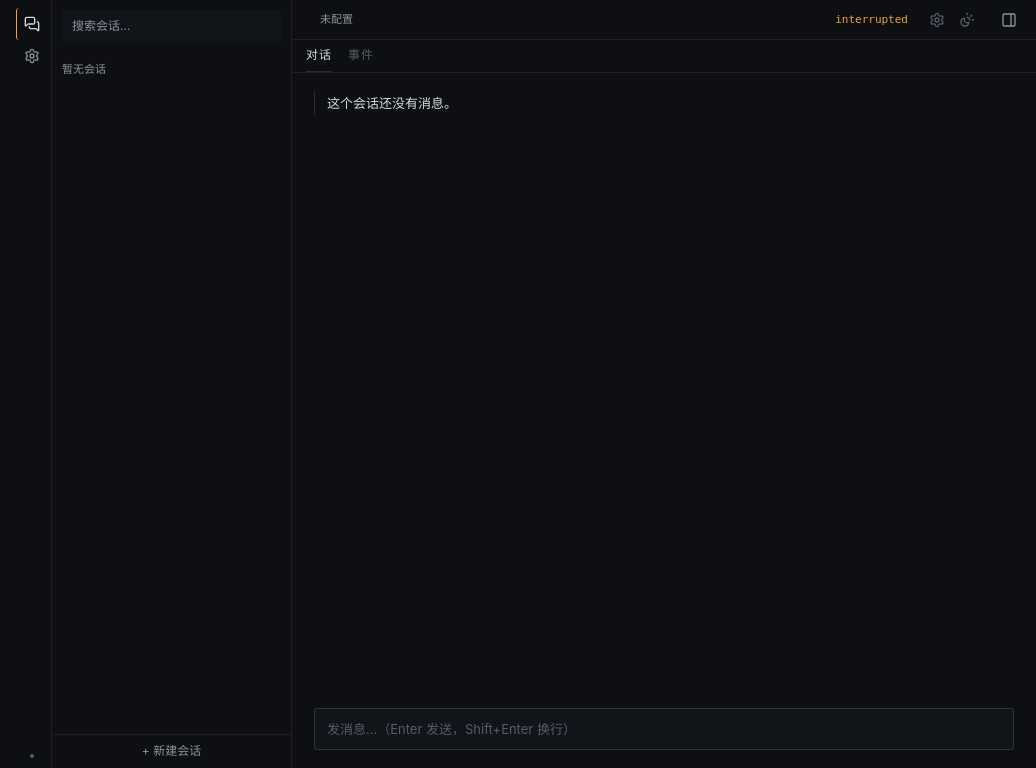
Scenario: AppFrame draft sessions › keeps the first-send session visible and selected while the catalog omits it
Click the button "+ 新建会话" at (172, 751), box 52,734 -> 291,767
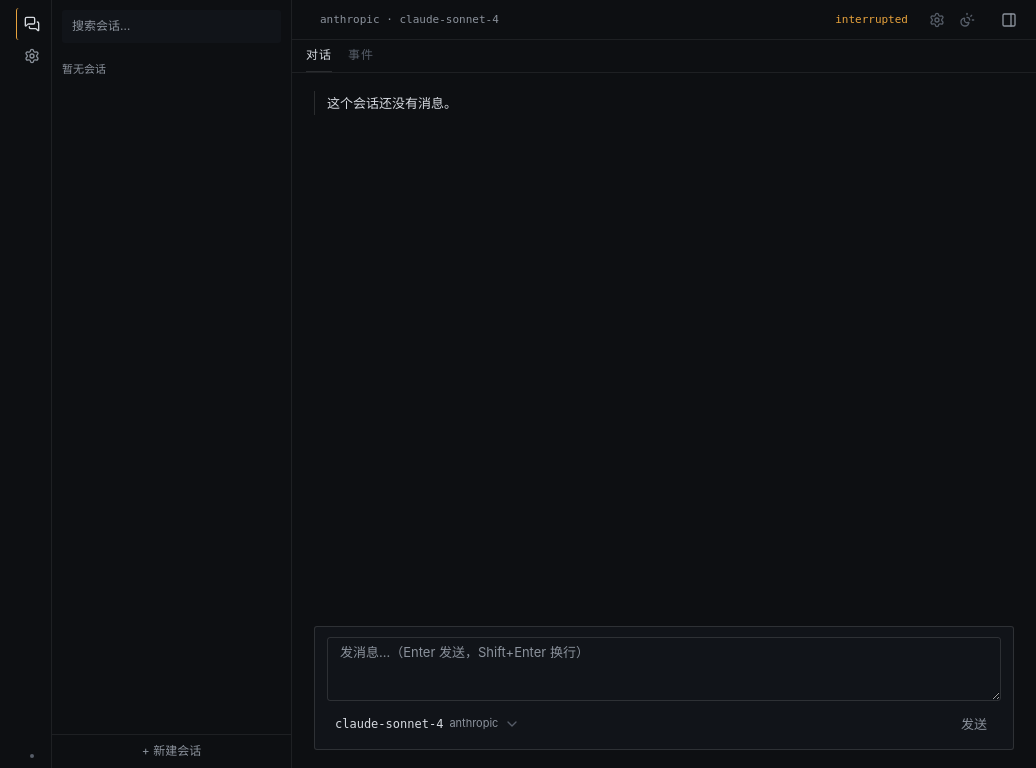
Type "Refactor the shell" into the text box named "消息输入" at (664, 669), box 327,637 -> 1001,701
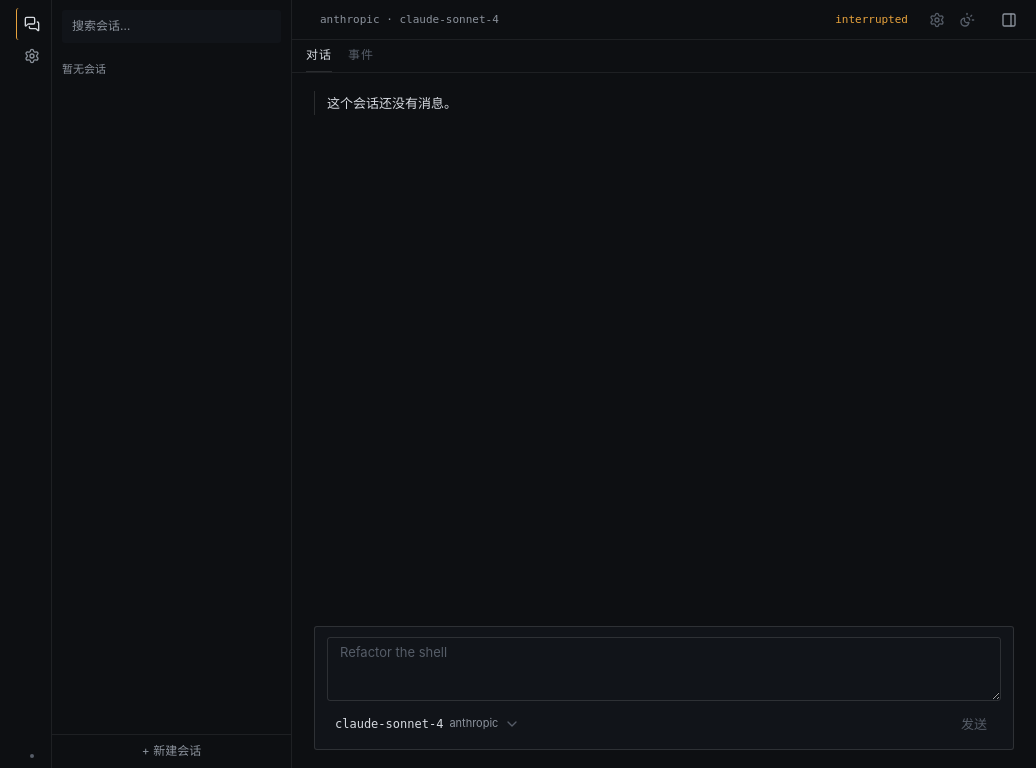
Click the button "发送" at (974, 724), box 947,709 -> 1001,739
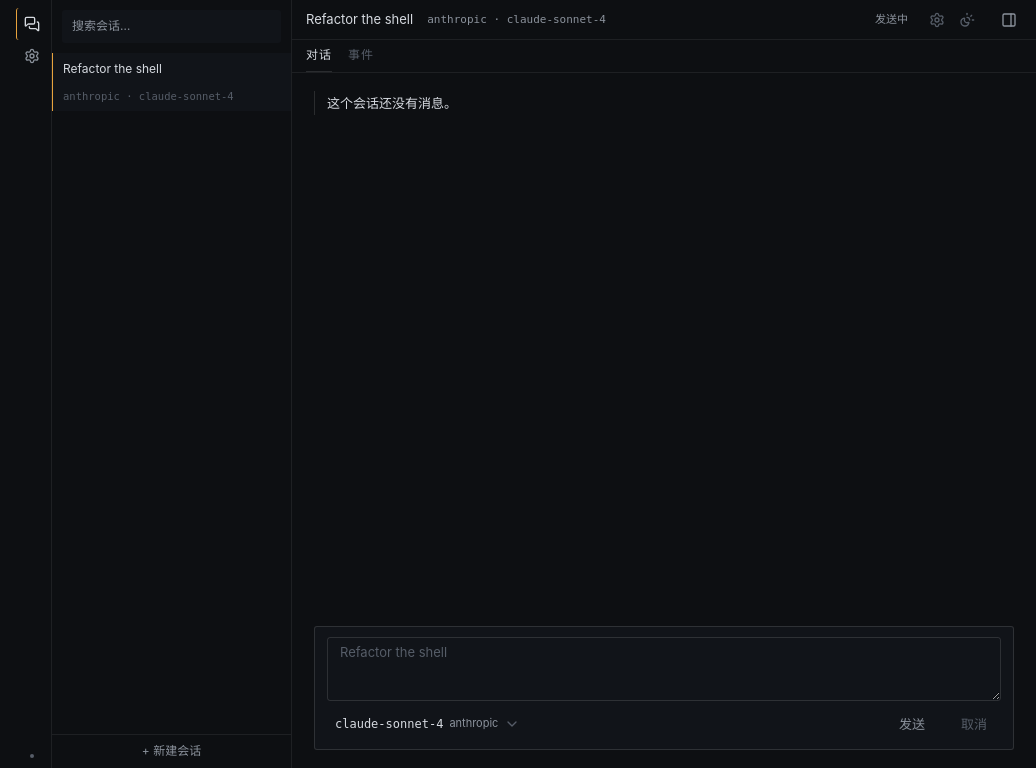
Now the button with class "sel" shows "Refactor the shell", box 52,53 -> 291,112
Now the text with class "sessionbar-title" reads "Refactor the shell", box 306,11 -> 413,27
Now the 2nd text "Refactor the shell" is shown, box 63,61 -> 162,76
